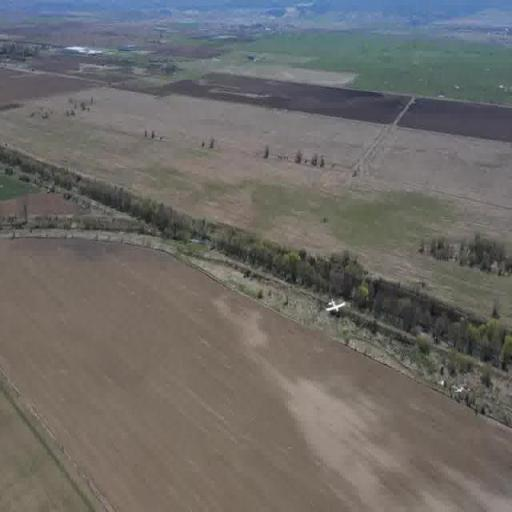uav: (323, 292, 347, 320)
